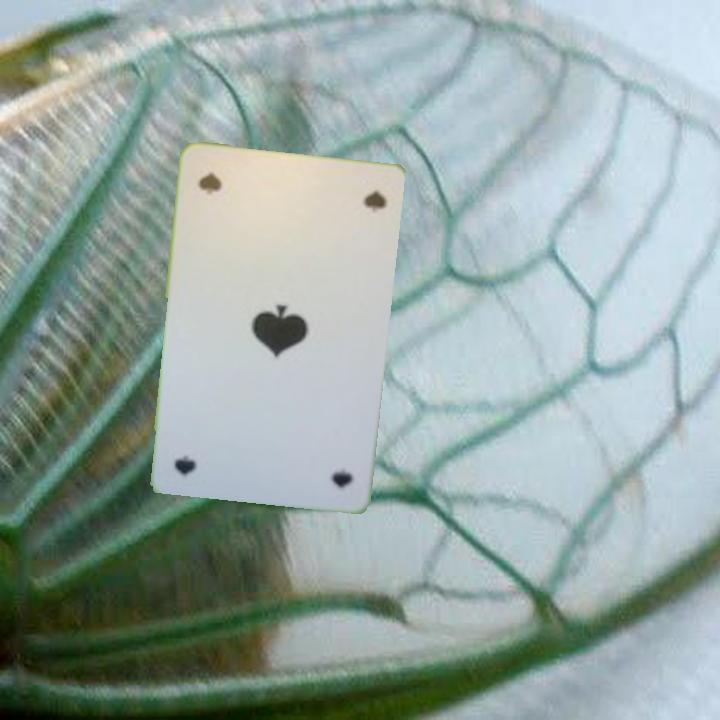s_a.png: (256, 401, 363, 497), (187, 157, 295, 252)
